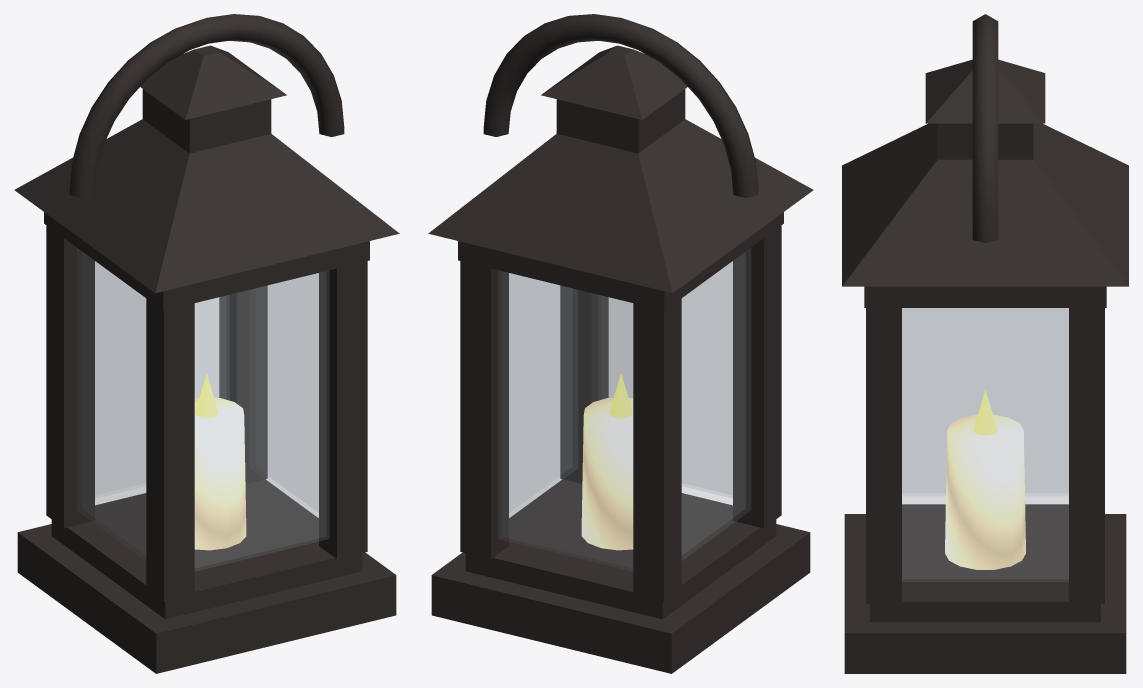
The model's file is lantern.glb.
The picture shows the model from 3 angles, left to right: view 1: azimuth 30°, elevation 25°; view 2: azimuth 150°, elevation 25°; view 3: azimuth 270°, elevation 25°; orthographic projection.
Visible parts, largest first — view 1: lantern; view 2: lantern; view 3: lantern.
Boxes of the visible parts, x1,y1,x2,y2 form: lantern: (14,14,399,673); lantern: (428,14,813,673); lantern: (842,14,1128,673).
Bounding box in the file's own units: 0.286 × 0.573 × 0.2546.
